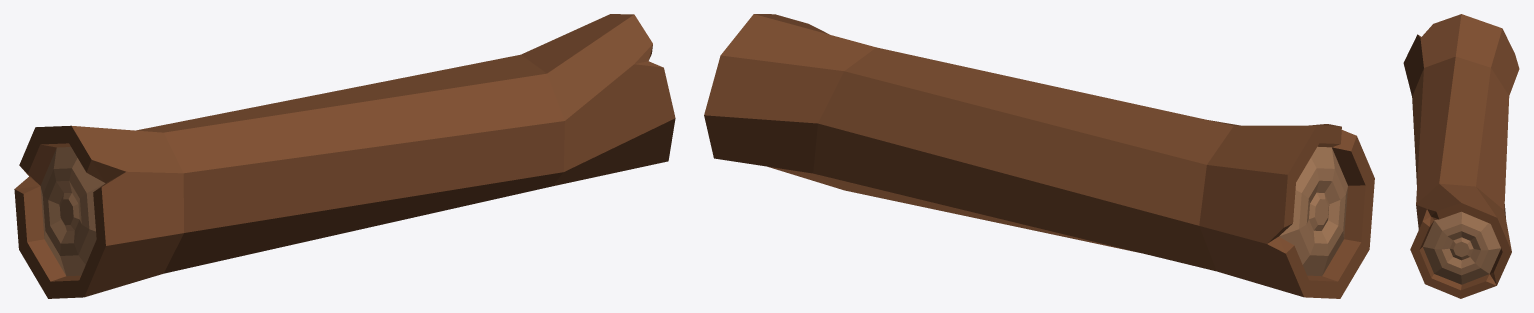
The model's file is Log 1.fbx.
3 views of the same model, side by side, from view 1: azimuth 30°, elevation 25°; view 2: azimuth 150°, elevation 25°; view 3: azimuth 270°, elevation 25° (orthographic). The views are drawn at different scales.
Visible parts, largest first — view 1: Log_LOD0; view 2: Log_LOD0; view 3: Log_LOD0.
Boxes of the visible parts, left/top/right/bottom form: Log_LOD0: left=14, top=14, right=675, bottom=298; Log_LOD0: left=704, top=14, right=1374, bottom=298; Log_LOD0: left=1403, top=14, right=1519, bottom=298.
Size of what is drawn, in the model's own units: 864 by 241 by 231.
